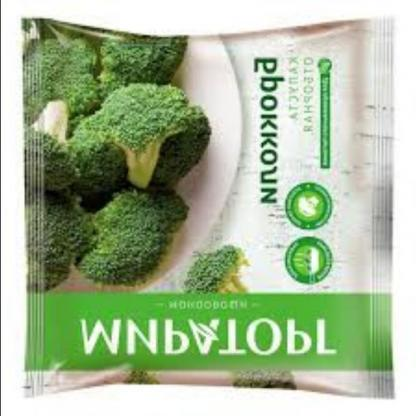broccoli: (41, 44, 137, 191), (76, 202, 202, 293), (82, 90, 183, 196), (97, 29, 185, 109), (175, 237, 253, 308)
